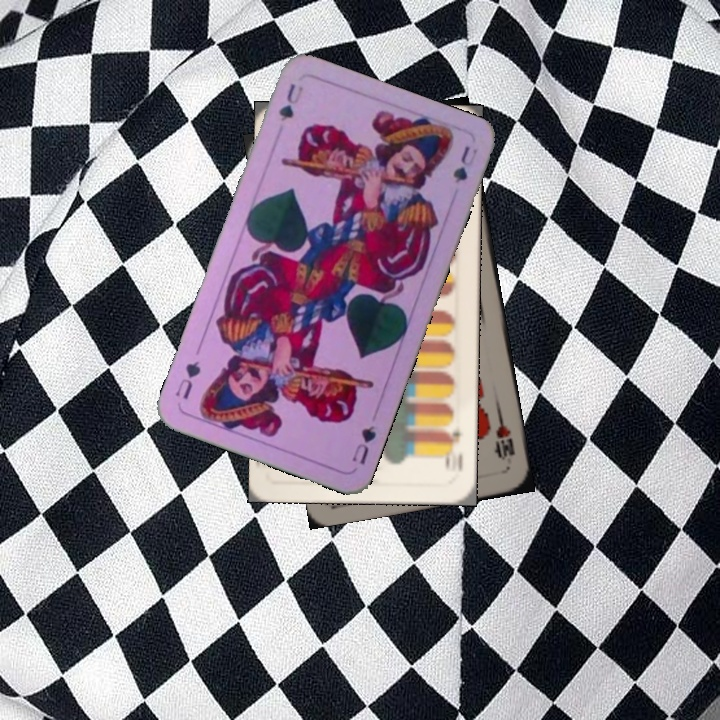E10: (442, 425, 466, 475)
GU: (274, 79, 306, 124), (348, 421, 379, 467)
H10: (491, 410, 518, 463)
